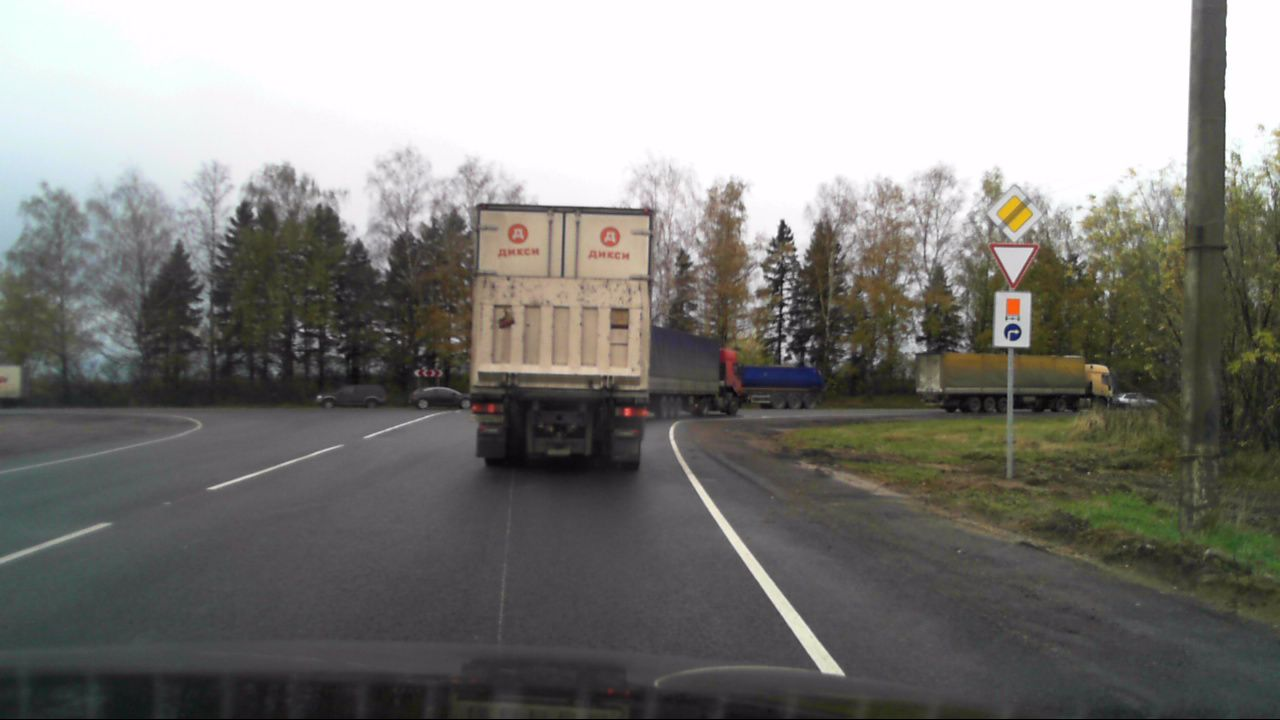main road: (986, 184, 1041, 241)
